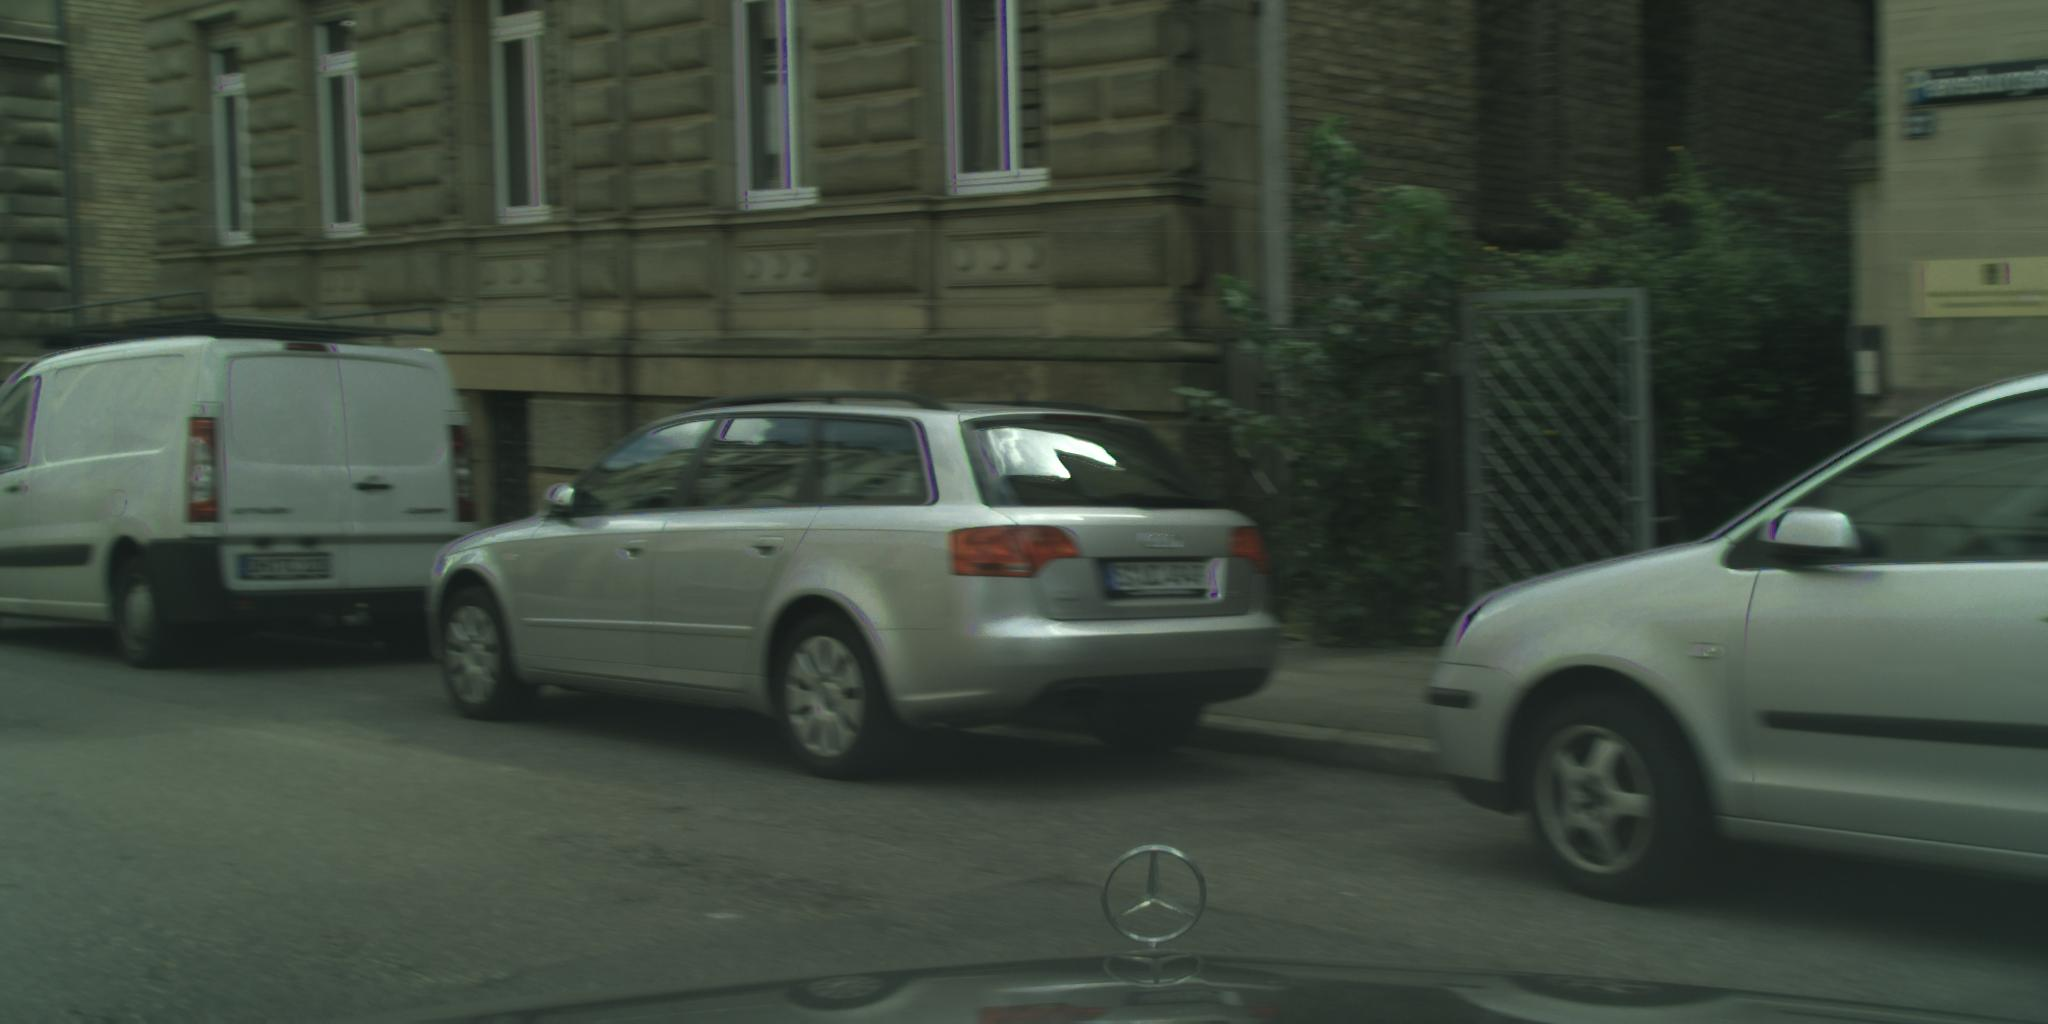car: (431, 391, 1283, 782), (1424, 372, 2045, 901), (1, 337, 481, 671)
